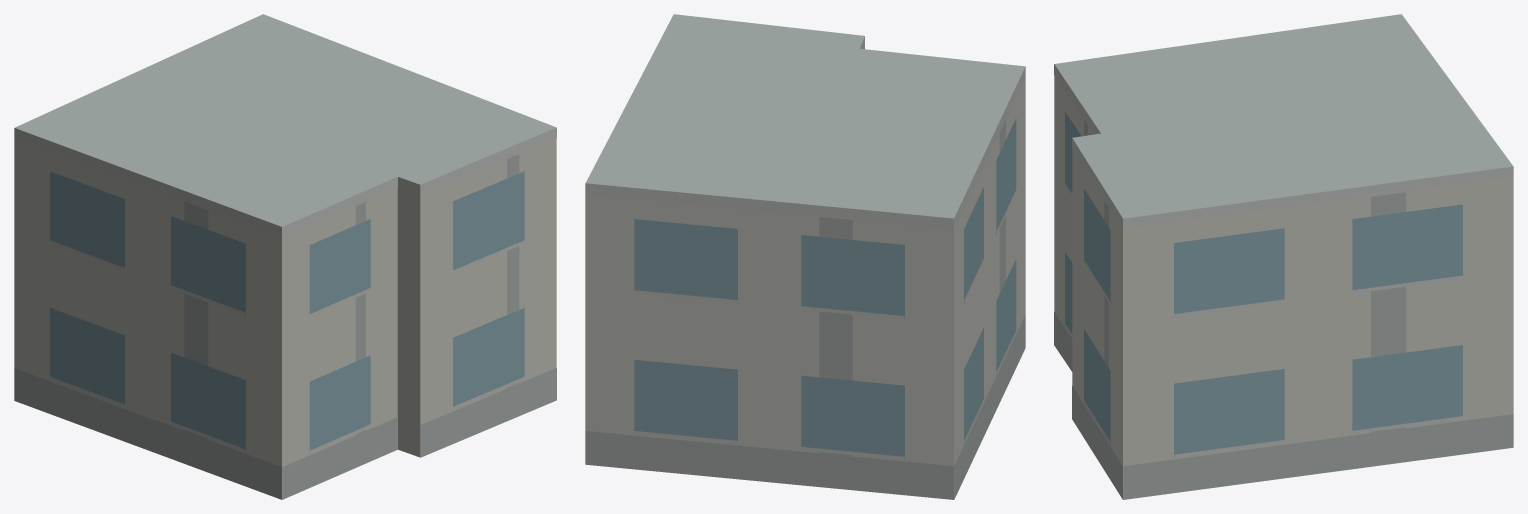
The model's file is survey-upis-32697596.glb.
The picture shows the model from 3 angles, left to right: view 1: azimuth 30°, elevation 25°; view 2: azimuth 150°, elevation 25°; view 3: azimuth 270°, elevation 25°; orthographic projection. The views are drawn at different scales.
Visible parts, largest first — view 1: survey-upis-32697596.tmp; view 2: survey-upis-32697596.tmp; view 3: survey-upis-32697596.tmp.
Part boxes in pixels (<box>): survey-upis-32697596.tmp: <box>14,14,556,499</box>; survey-upis-32697596.tmp: <box>585,14,1025,499</box>; survey-upis-32697596.tmp: <box>1054,14,1513,499</box>.
Size of the model in its own units: 9.53 by 6.1 by 9.04.
